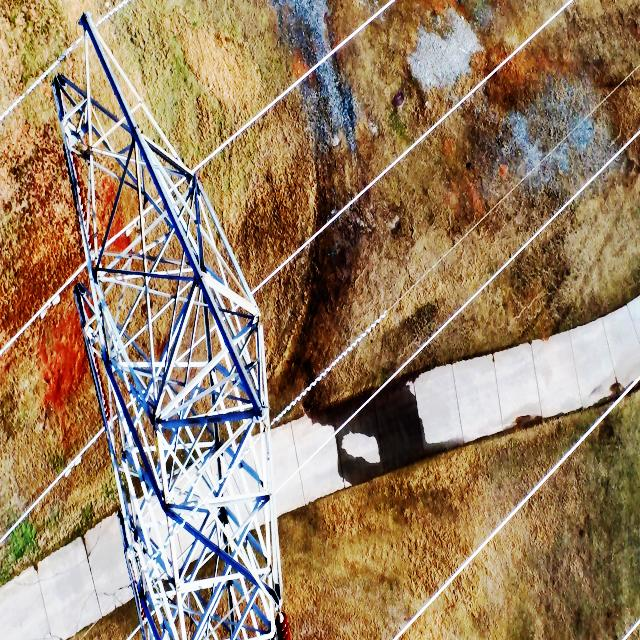poles: (52, 12, 284, 640)
wires: (278, 129, 640, 490), (251, 0, 571, 295), (392, 374, 640, 640), (193, 0, 396, 172), (270, 305, 394, 427), (0, 430, 104, 544), (0, 264, 85, 358), (0, 38, 80, 123), (99, 0, 132, 25)
